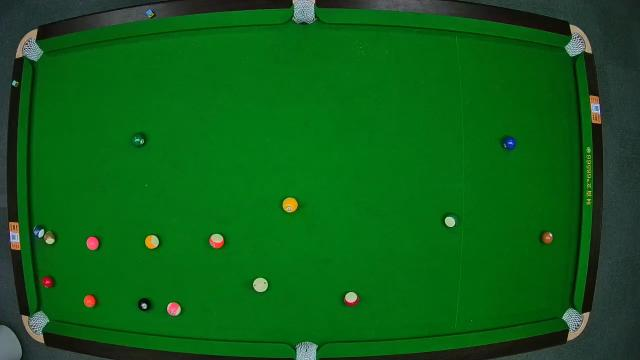bag1: (21, 40, 39, 60)
bag2: (292, 1, 316, 23)
bag3: (566, 34, 588, 54)
bag4: (27, 312, 46, 332)
bag5: (296, 342, 318, 360)
bag6: (561, 310, 583, 330)
ball0: (252, 276, 268, 294)
ball1: (282, 196, 298, 214)
ball10: (31, 222, 45, 238)
ball11: (343, 289, 359, 306)
ball12: (168, 302, 182, 318)
ball13: (210, 231, 226, 248)
ball14: (444, 212, 461, 229)
ball15: (42, 230, 56, 246)
ball2: (502, 135, 518, 151)
ball3: (41, 274, 54, 288)
ball4: (86, 236, 100, 252)
ball5: (82, 294, 98, 308)
ball6: (130, 133, 146, 147)
ball7: (542, 230, 554, 246)
ball8: (138, 297, 152, 313)
ball9: (144, 234, 162, 250)
